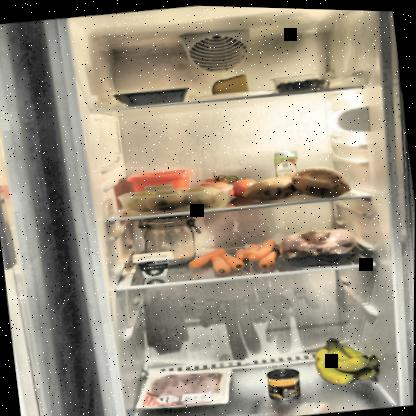banana: (308, 327, 387, 393)
blueberries: (275, 74, 330, 93)
butter: (126, 167, 195, 199)
carrot: (186, 232, 284, 279)
cheese: (208, 70, 252, 97)
chicken: (275, 217, 367, 271)
corn: (265, 364, 304, 400)
heavy_cream: (270, 147, 302, 185)
potato: (122, 178, 233, 217)
sweet_potato: (240, 160, 352, 206)
tomato: (196, 166, 263, 203)
